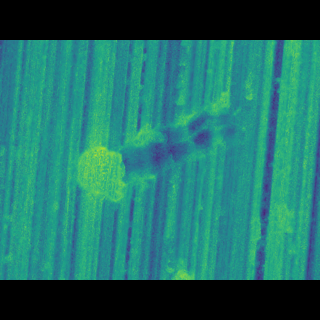Loch: (72, 109, 253, 192)
